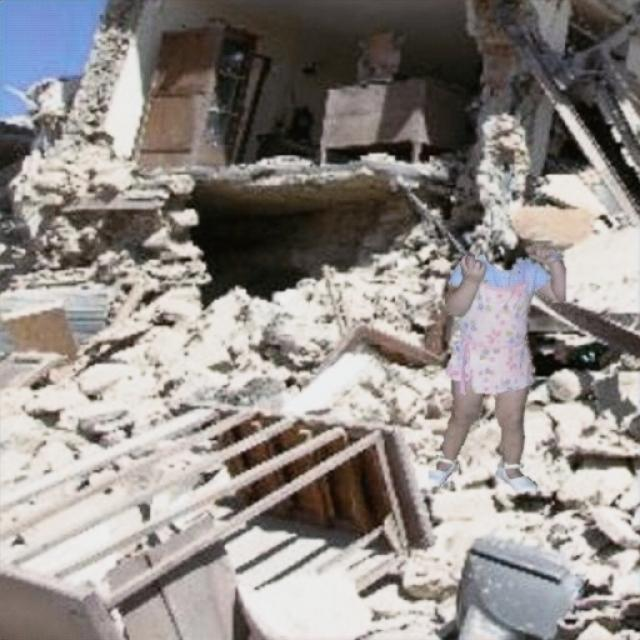Person in Rubble: (429, 245, 565, 490)
